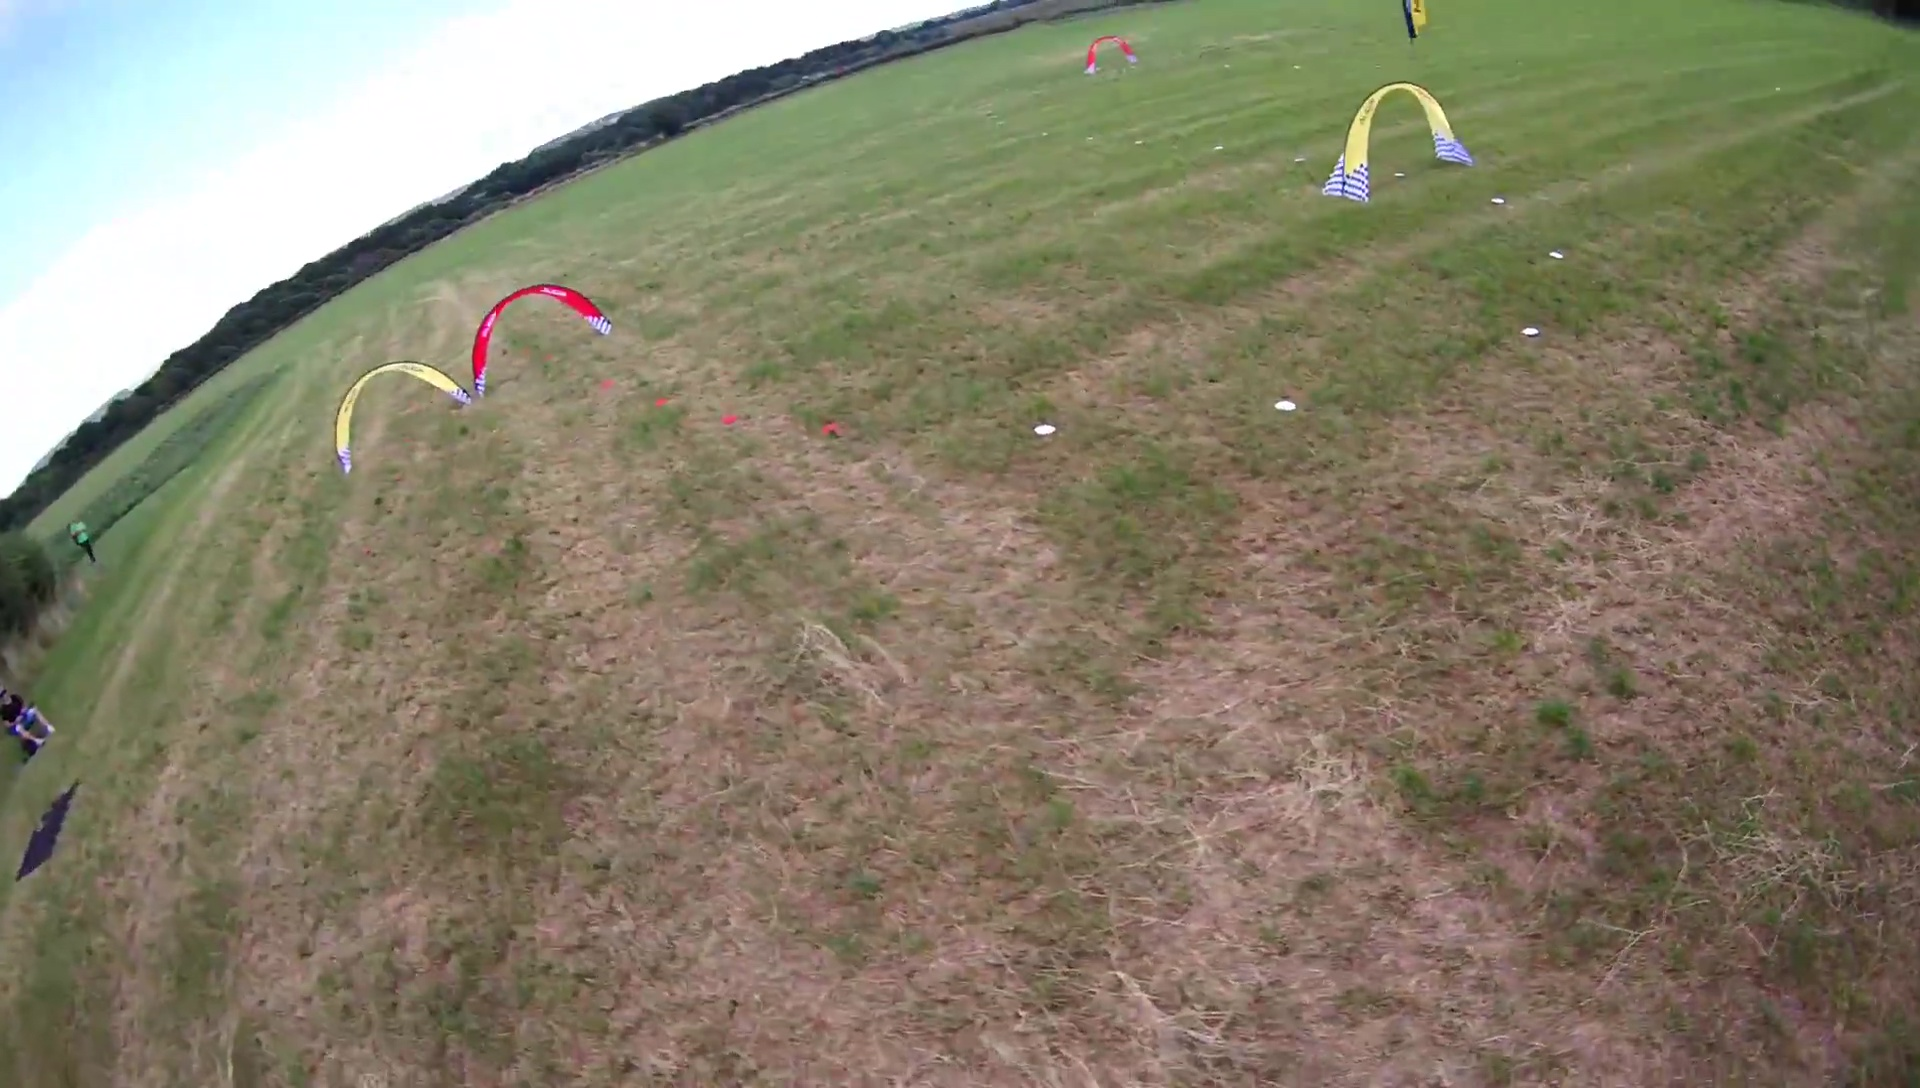gate: (1324, 80, 1474, 204), (469, 282, 613, 400), (334, 360, 473, 472), (1084, 32, 1139, 76)
